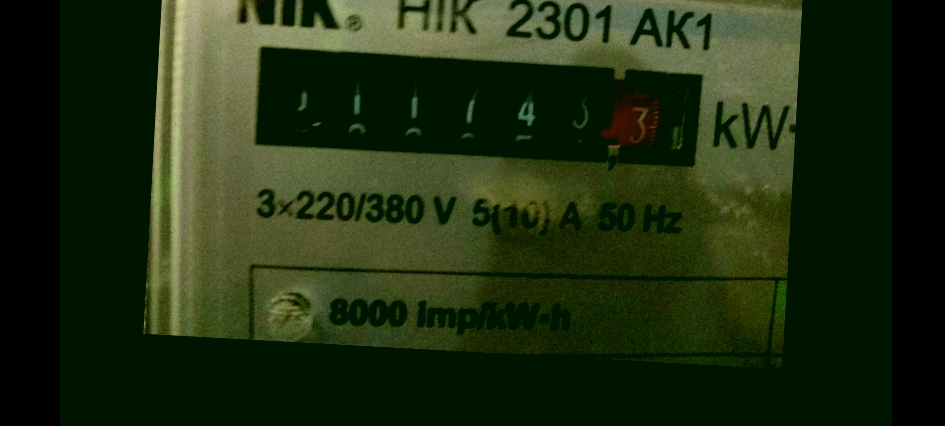0: (283, 66, 314, 114)
1: (402, 73, 426, 122), (347, 70, 367, 119)
3: (566, 84, 597, 133), (625, 102, 652, 147)
4: (512, 80, 543, 130)
7: (458, 78, 485, 128)
screen: (238, 35, 710, 179)
